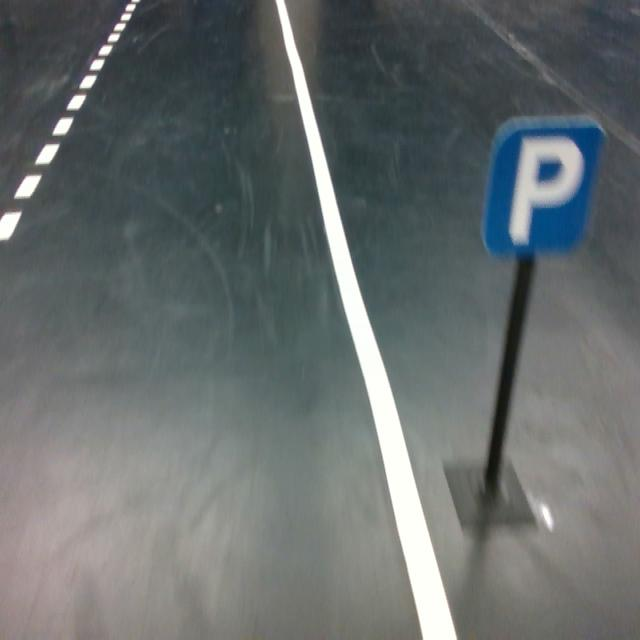parking-sign: (478, 112, 606, 260)
